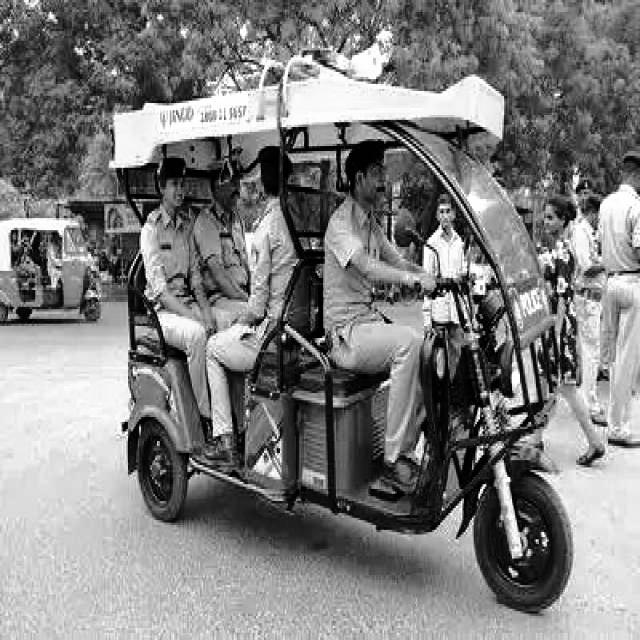Toto: (112, 68, 578, 618)
